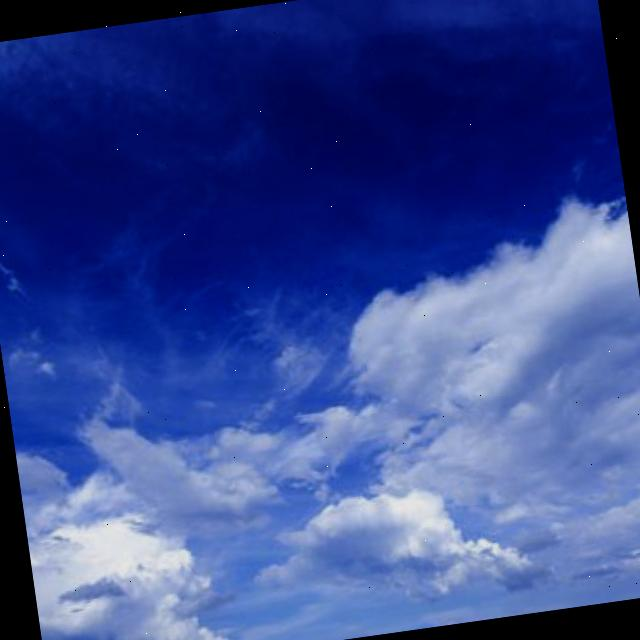Cu: (1, 93, 640, 623)
